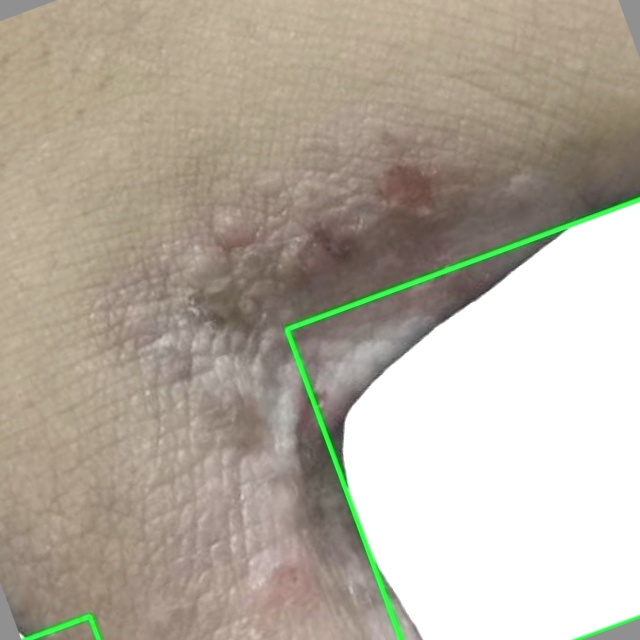Scabies: (286, 199, 639, 639)
